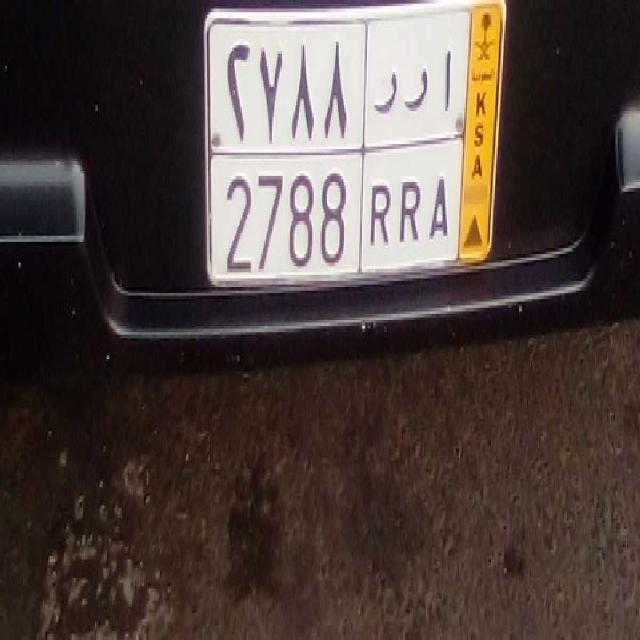license_plate: (212, 138, 459, 279)
